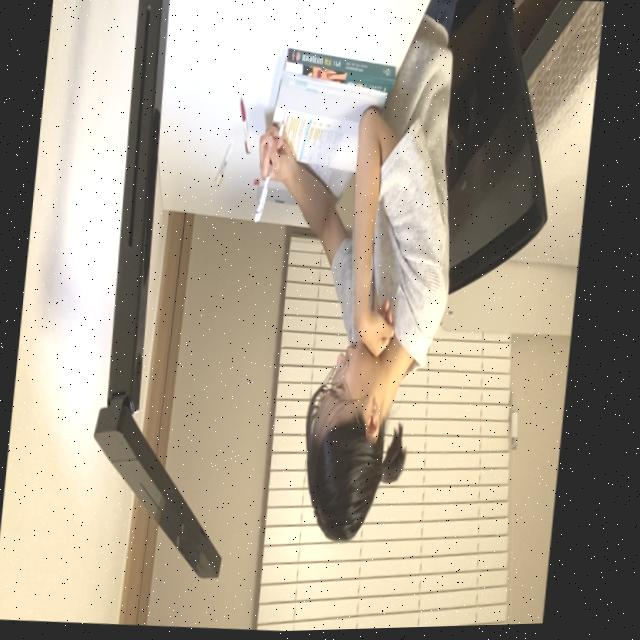studying-person: (215, 0, 486, 565)
